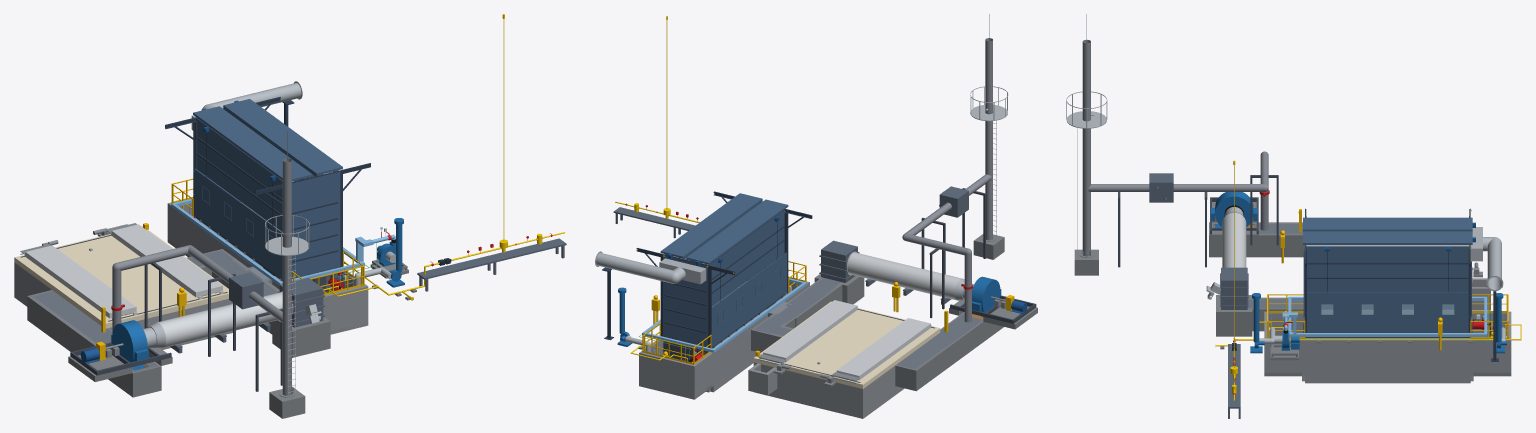
File: SHV-FUR-6700.glb
The picture shows the model from 3 angles, left to right: view 1: azimuth 30°, elevation 25°; view 2: azimuth 150°, elevation 25°; view 3: azimuth 270°, elevation 25°; orthographic projection. The views are drawn at different scales.
Parts seen in each view (by area): view 1: ZEN-04 Wall sheeting, DRY-11 Top deck and fixed cover, CIV-10 Loop trenches and mixing-box pit, ZEN-07a Skimming door west, CIV-03 Furnace and burner pit walls, ZEN-09b Roof cover east, HRL-12 Suction duct Ã1100, DRY-02 Dryer door P1, ZEN-09a Roof cover west, DRY-03 Dryer door P4, STK-01 Stack Ã400 Ã 12 m, CIV-11 Trench cover plates (+18 smaller); view 2: ZEN-04 Wall sheeting, DRY-11 Top deck and fixed cover, CIV-03 Furnace and burner pit walls, CIV-10 Loop trenches and mixing-box pit, CIV-20 Dryer pit, ZEN-07a Skimming door west, CIV-11 Trench cover plates, HRL-12 Suction duct Ã1100, ZEN-09b Roof cover east, DRY-02 Dryer door P1, DRY-03 Dryer door P4, ZEN-09a Roof cover west (+22 smaller); view 3: CIV-03 Furnace and burner pit walls, ZEN-04 Wall sheeting, ZEN-07b Skimming door east, CIV-10 Loop trenches and mixing-box pit, ZEN-09a Roof cover west, ZEN-09b Roof cover east, STK-01 Stack Ã400 Ã 12 m, HRL-09 Bleed duct Ã400, HRL-12 Suction duct Ã1100, HRL-05 Mixing box S2, CA-150-103 Closed air ring 150 Ã 150, ZEN-04a Sheet stiffeners (+14 smaller).
Part boxes in pixels (x1,y1,x2,y2): ZEN-04 Wall sheeting: [196, 119, 340, 278]; DRY-11 Top deck and fixed cover: [14, 226, 228, 328]; CIV-10 Loop trenches and mixing-box pit: [27, 249, 330, 397]; ZEN-07a Skimming door west: [194, 168, 282, 279]; CIV-03 Furnace and burner pit walls: [167, 202, 368, 334]; ZEN-09b Roof cover east: [223, 99, 342, 177]; HRL-12 Suction duct Ã1100: [157, 291, 292, 347]; DRY-02 Dryer door P1: [24, 245, 137, 319]; ZEN-09a Roof cover west: [193, 106, 312, 181]; DRY-03 Dryer door P4: [111, 224, 223, 299]; STK-01 Stack Ã400 Ã 12 m: [282, 130, 291, 395]; CIV-11 Trench cover plates: [30, 250, 277, 371]; ZEN-04 Wall sheeting: [663, 210, 785, 346]; DRY-11 Top deck and fixed cover: [753, 301, 940, 388]; CIV-03 Furnace and burner pit walls: [639, 281, 809, 399]; CIV-10 Loop trenches and mixing-box pit: [751, 274, 1003, 391]; CIV-20 Dryer pit: [753, 362, 904, 418]; ZEN-07a Skimming door west: [712, 252, 786, 346]; CIV-11 Trench cover plates: [754, 277, 982, 369]; HRL-12 Suction duct Ã1100: [846, 251, 961, 300]; ZEN-09b Roof cover east: [660, 193, 762, 259]; DRY-02 Dryer door P1: [835, 318, 931, 381]; DRY-03 Dryer door P4: [762, 300, 858, 363]; ZEN-09a Roof cover west: [686, 199, 788, 264]; CIV-03 Furnace and burner pit walls: [1264, 311, 1511, 383]; ZEN-04 Wall sheeting: [1304, 245, 1469, 320]; ZEN-07b Skimming door east: [1307, 291, 1468, 332]; CIV-10 Loop trenches and mixing-box pit: [1209, 222, 1304, 336]; ZEN-09a Roof cover west: [1303, 217, 1472, 231]; ZEN-09b Roof cover east: [1303, 231, 1472, 244]; STK-01 Stack Ã400 Ã 12 m: [1082, 14, 1090, 256]; HRL-09 Bleed duct Ã400: [1087, 151, 1268, 230]; HRL-12 Suction duct Ã1100: [1222, 213, 1246, 267]; HRL-05 Mixing box S2: [1220, 267, 1248, 309]; CA-150-103 Closed air ring 150 Ã 150: [1288, 296, 1487, 336]; ZEN-04a Sheet stiffeners: [1303, 251, 1471, 317].
Bounding box in the file's own units: 25180 × 16150 × 22550.
